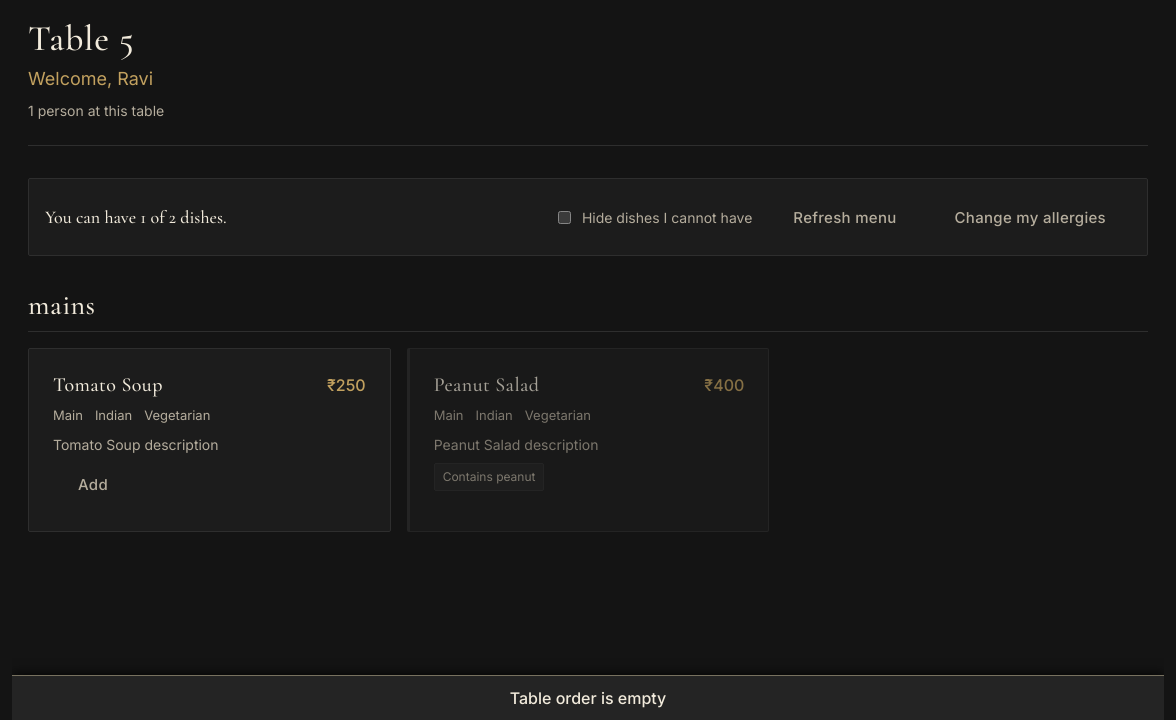
Test: GuestTable integration tests › 9. a network error shows the network message and does not refresh
Click the button "Add" at (93, 484), box [53,462,133,506]
Wait 10 ms
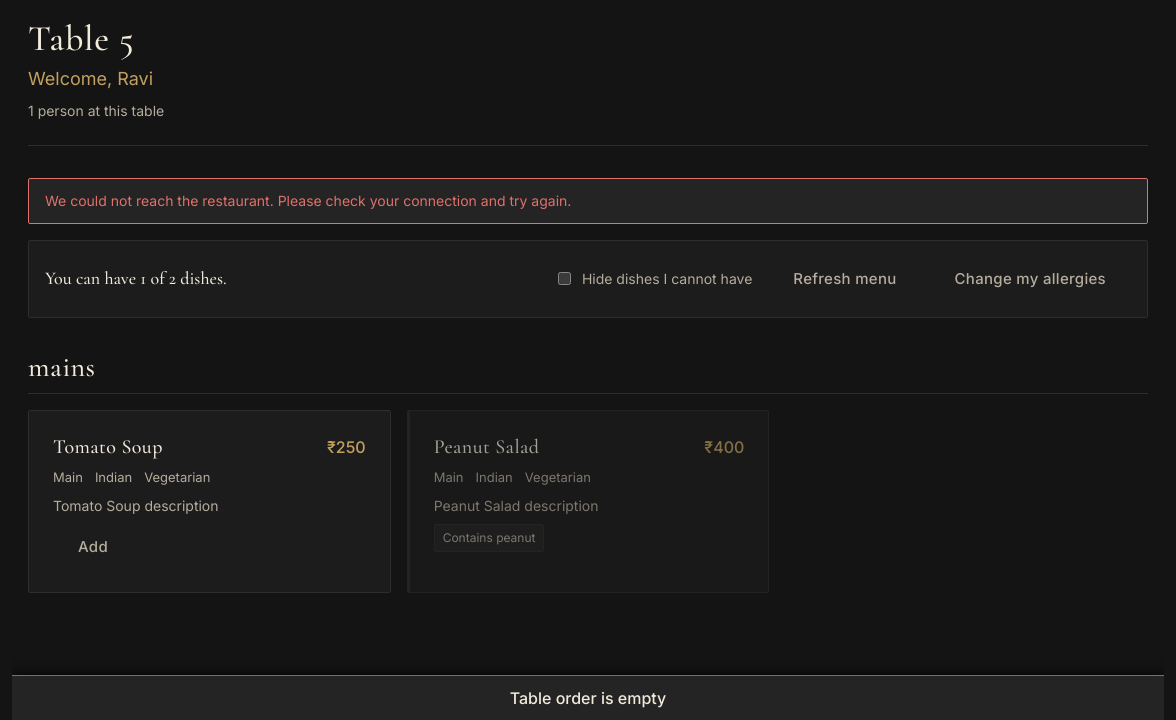
Expected: the text "We could not reach the restaurant. Please check your connection and try again." is shown, [28,178,1148,224]
